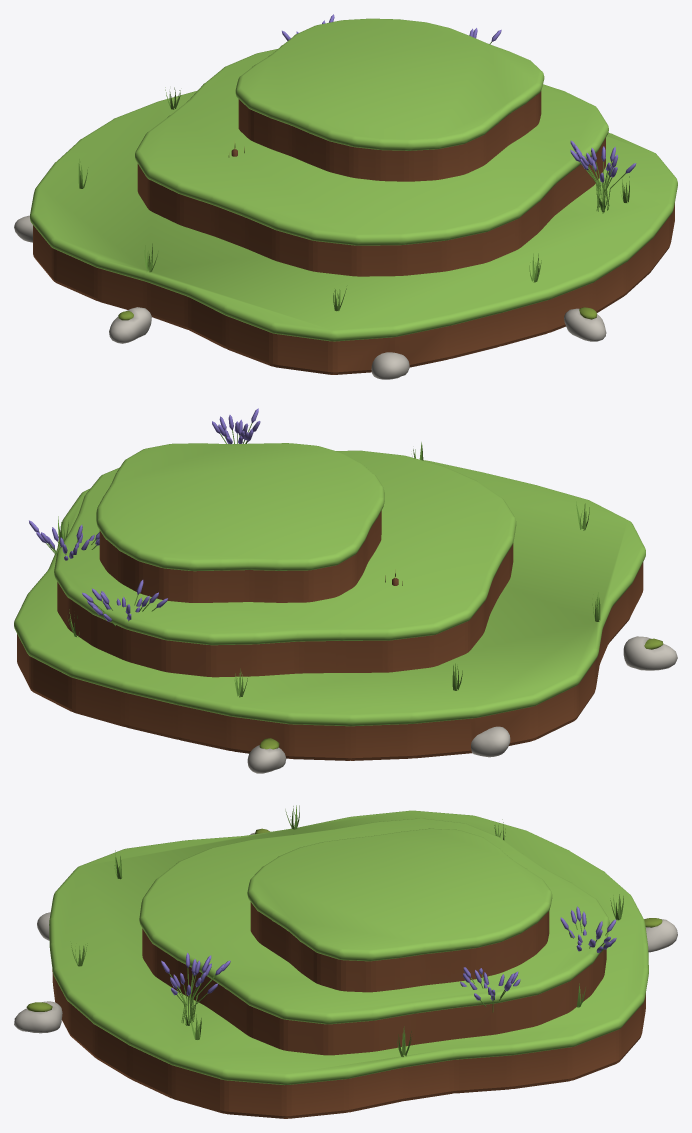
The model's file is sol.glb.
3 renders of one model, top to bottom at view 1: azimuth 30°, elevation 25°; view 2: azimuth 150°, elevation 25°; view 3: azimuth 270°, elevation 25°, orthographic. The views are drawn at different scales.
Visible parts, largest first — view 1: terrasses:herbe, terrasses:terre, terrasses:pierre, terrasses:brin, terrasses:lavande; view 2: terrasses:herbe, terrasses:terre, terrasses:pierre, terrasses:lavande, terrasses:brin; view 3: terrasses:herbe, terrasses:terre, terrasses:lavande, terrasses:pierre, terrasses:brin.
Boxes of the visible parts, x1=… form: terrasses:herbe: x1=30, y1=18, x2=677, y2=341; terrasses:terre: x1=33, y1=91, x2=674, y2=374; terrasses:pierre: x1=14, y1=215, x2=606, y2=379; terrasses:brin: x1=78, y1=42, x2=629, y2=311; terrasses:lavande: x1=282, y1=14, x2=636, y2=182; terrasses:herbe: x1=14, y1=443, x2=645, y2=726; terrasses:terre: x1=17, y1=510, x2=643, y2=760; terrasses:pierre: x1=247, y1=636, x2=677, y2=773; terrasses:lavande: x1=29, y1=408, x2=260, y2=621; terrasses:brin: x1=39, y1=423, x2=600, y2=697; terrasses:herbe: x1=49, y1=810, x2=648, y2=1085; terrasses:terre: x1=52, y1=902, x2=645, y2=1118; terrasses:lavande: x1=161, y1=906, x2=616, y2=1000; terrasses:pierre: x1=14, y1=832, x2=677, y2=1033; terrasses:brin: x1=71, y1=805, x2=623, y2=1056.
Bounding box in the file's own units: 6.4 × 1.75 × 6.53.
